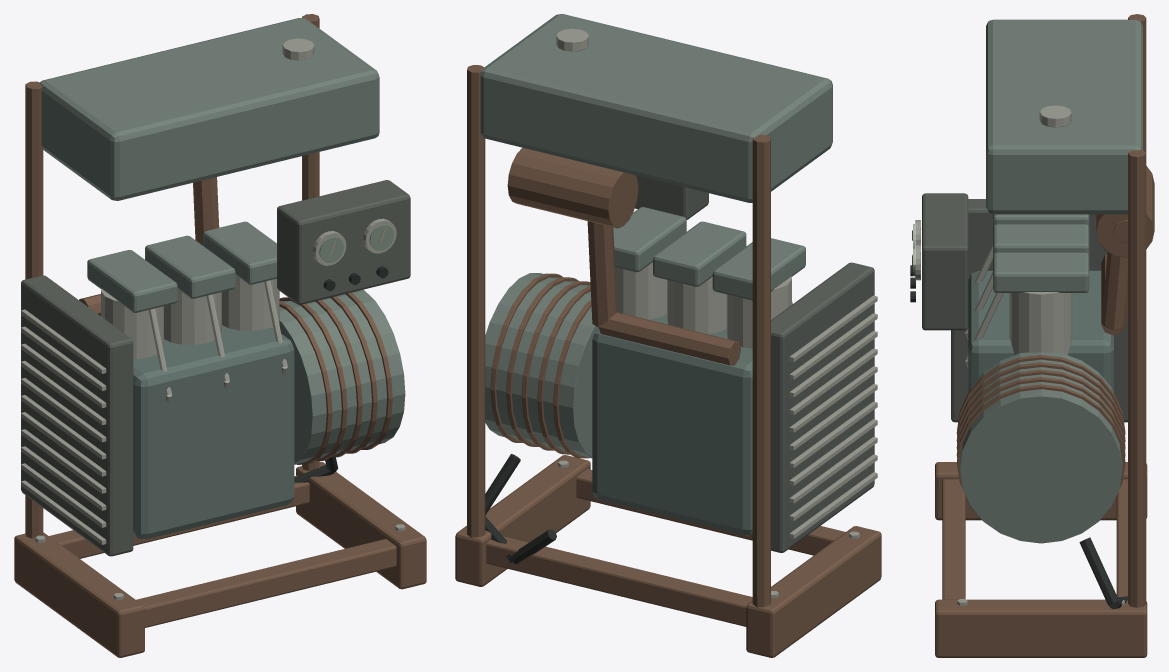
File: diesel_generator_low.glb
The picture shows the model from 3 angles, left to right: view 1: azimuth 30°, elevation 25°; view 2: azimuth 150°, elevation 25°; view 3: azimuth 270°, elevation 25°; orthographic projection. The views are drawn at different scales.
Visible parts, largest first — view 1: diesel_generator.001; view 2: diesel_generator.001; view 3: diesel_generator.001.
Boxes of the visible parts, x1=… form: diesel_generator.001: x1=14, y1=14, x2=426, y2=657; diesel_generator.001: x1=455, y1=14, x2=881, y2=657; diesel_generator.001: x1=910, y1=14, x2=1154, y2=657.
Size of the model in its own units: 1.25 by 1.95 by 0.8395.
